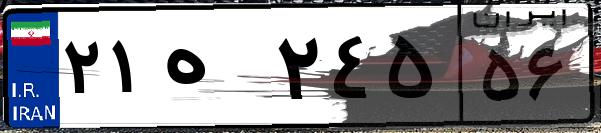1: (110, 28, 158, 98)
2: (270, 28, 330, 110), (57, 26, 110, 100)
4: (330, 28, 385, 110)
5: (385, 28, 445, 110), (475, 38, 525, 113)
6: (525, 38, 570, 115)
ه: (158, 20, 270, 120)
